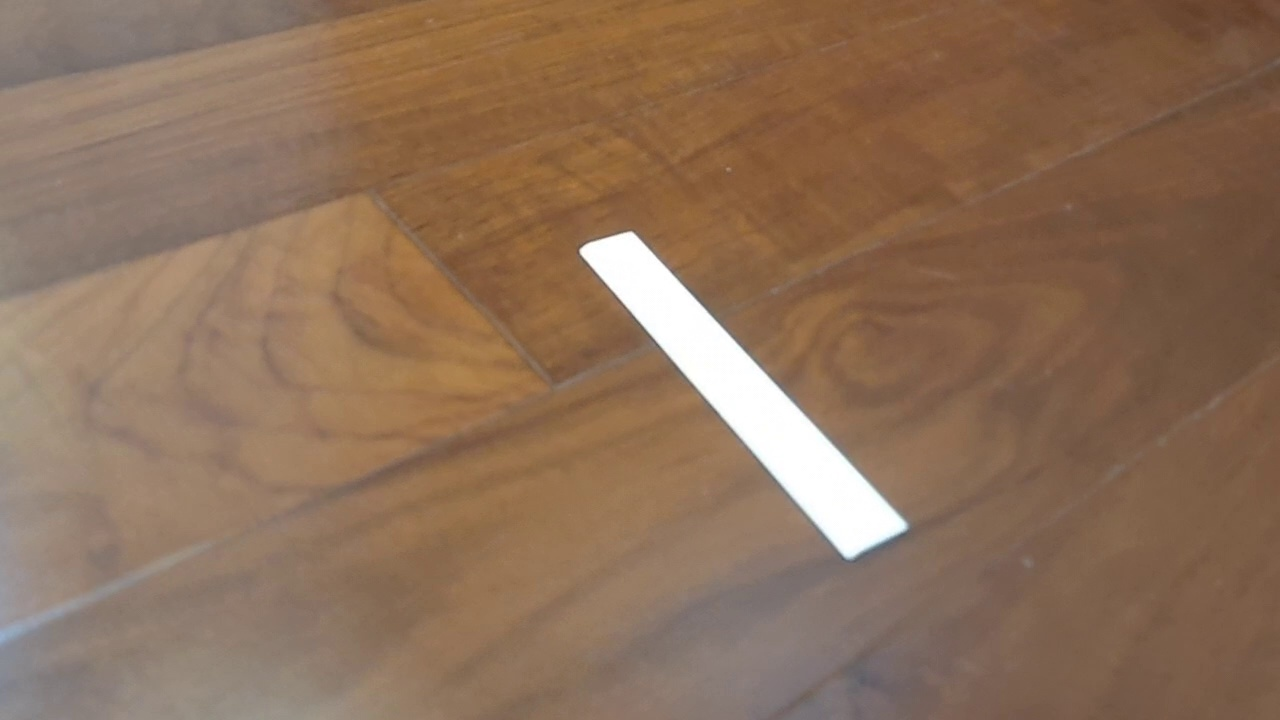ruler: (576, 228, 910, 563)
